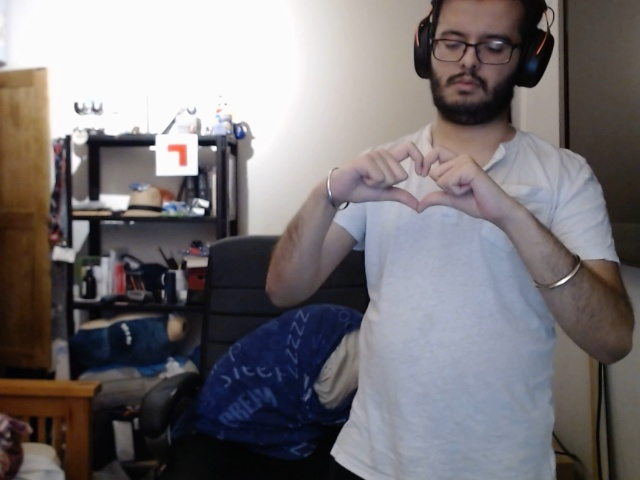Heart: (339, 137, 511, 234)
